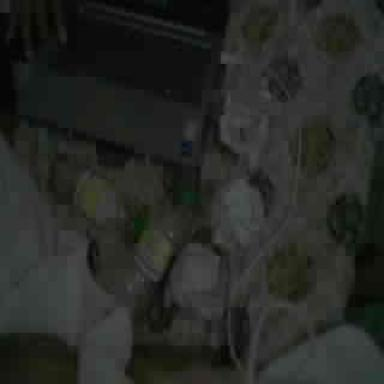bottle: (100, 205, 193, 317), (48, 153, 144, 237)
paper: (168, 242, 228, 320), (212, 178, 264, 246)
